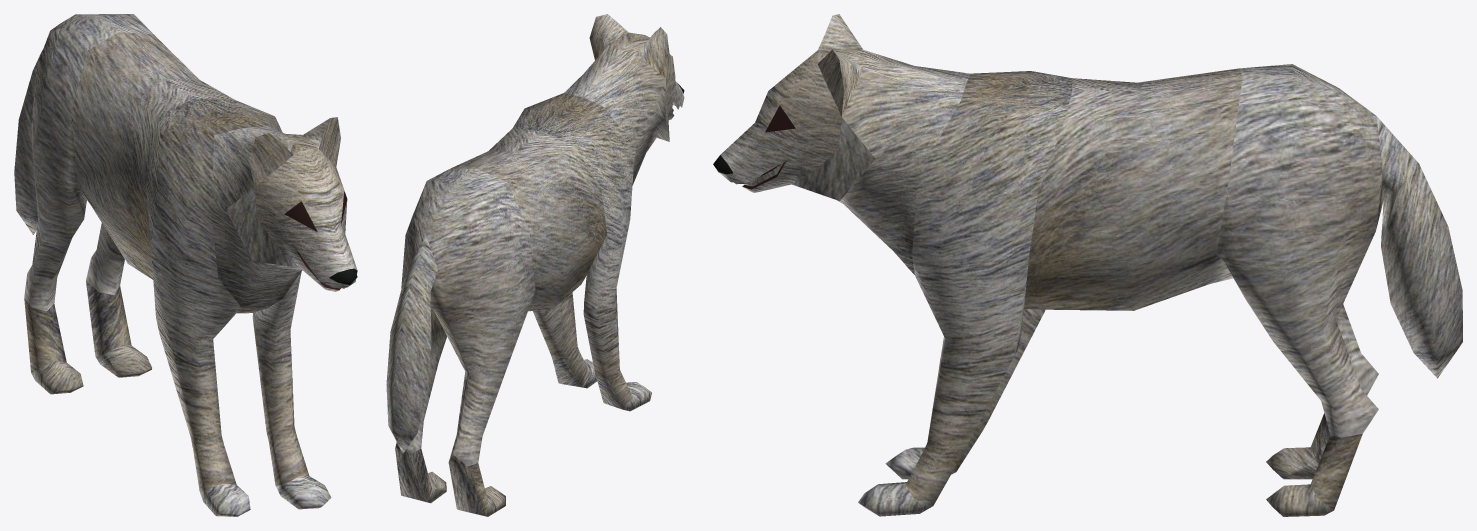
Rendered from creature-wolf-mobile.glb.
3 renders of one model, left to right at view 1: azimuth 30°, elevation 25°; view 2: azimuth 150°, elevation 25°; view 3: azimuth 270°, elevation 25°, orthographic. The views are drawn at different scales.
Visible parts, largest first — view 1: creature-wolf; view 2: creature-wolf; view 3: creature-wolf.
Part boxes in pixels (x1,y1,x2,y2): creature-wolf: [14, 14, 357, 516]; creature-wolf: [386, 14, 684, 516]; creature-wolf: [713, 14, 1462, 516].
Bounding box in the file's own units: 0.3769 × 1.08 × 1.6.
Materials: 5 (2 with a texture image).
